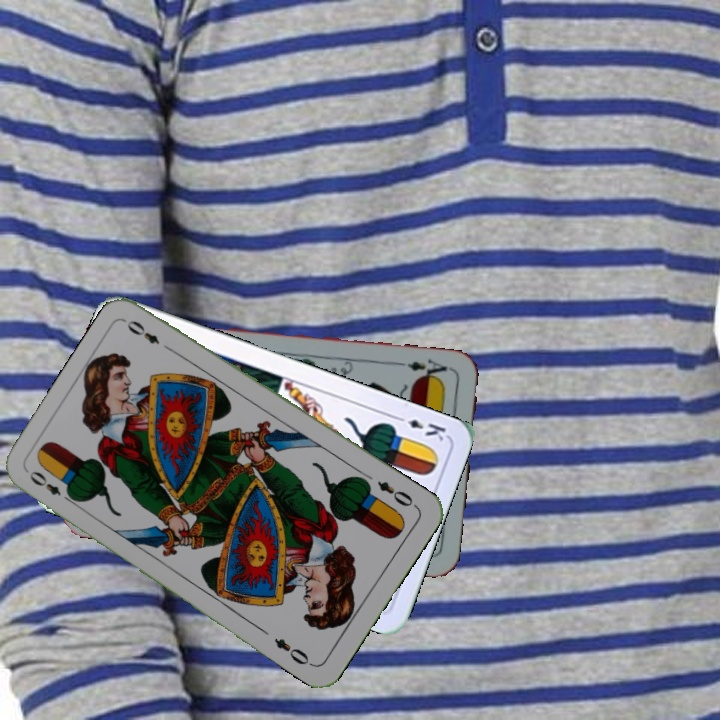EA: (403, 355, 454, 383)
EK: (391, 411, 449, 444)
EO: (25, 466, 77, 506), (373, 477, 420, 511)
